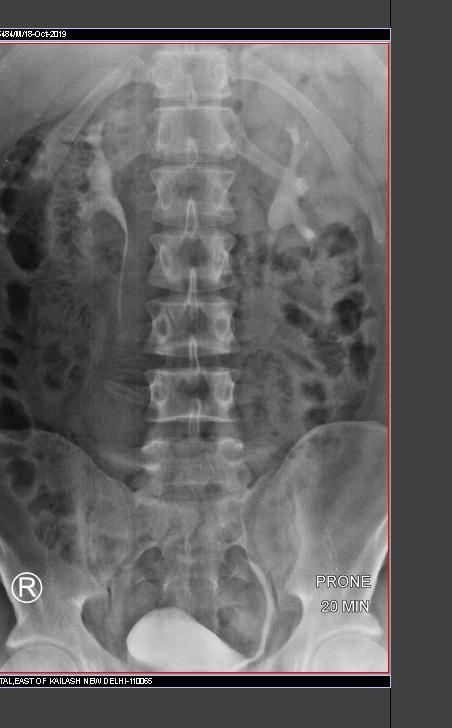bladder: (127, 630, 298, 709)
right kidney: (22, 90, 151, 274)
vertebrae: (172, 146, 280, 220)
